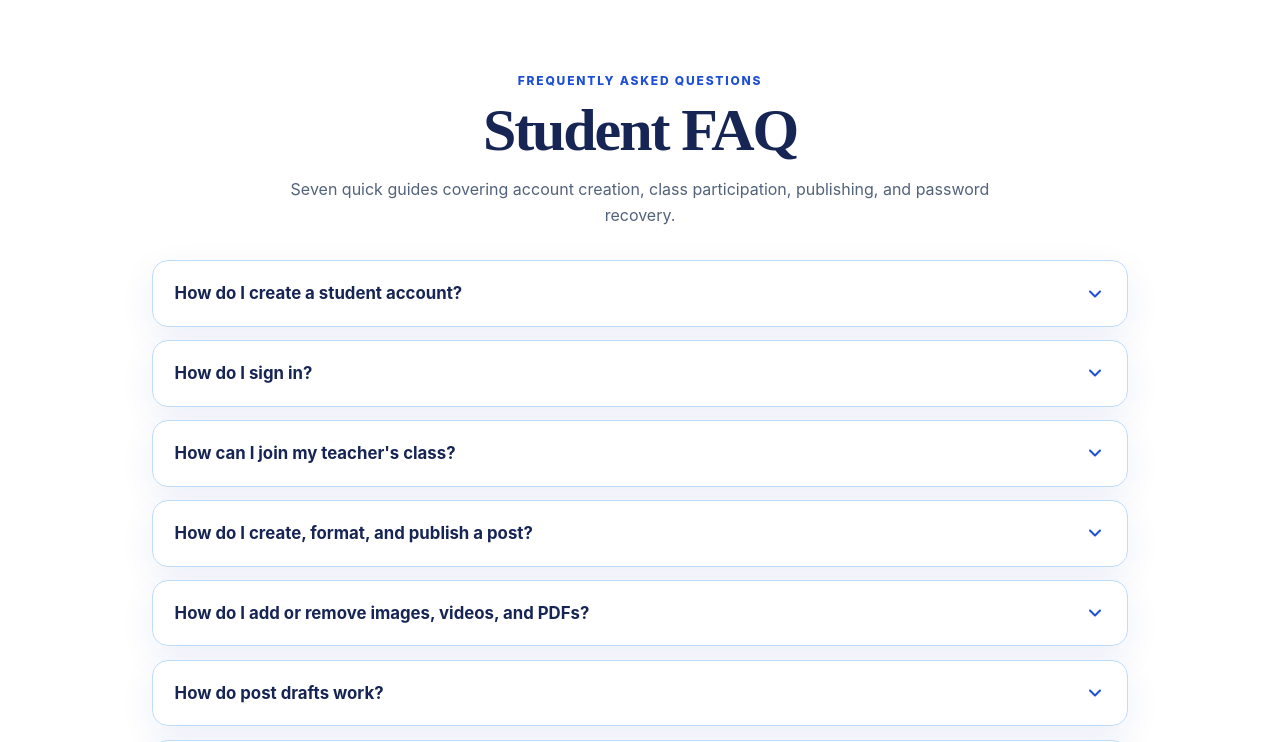
it: class enrollment help › directs students to join a class only after signing in
Click the button "How can I join my teacher's class?" at (315,453), box [153,421,1127,486]
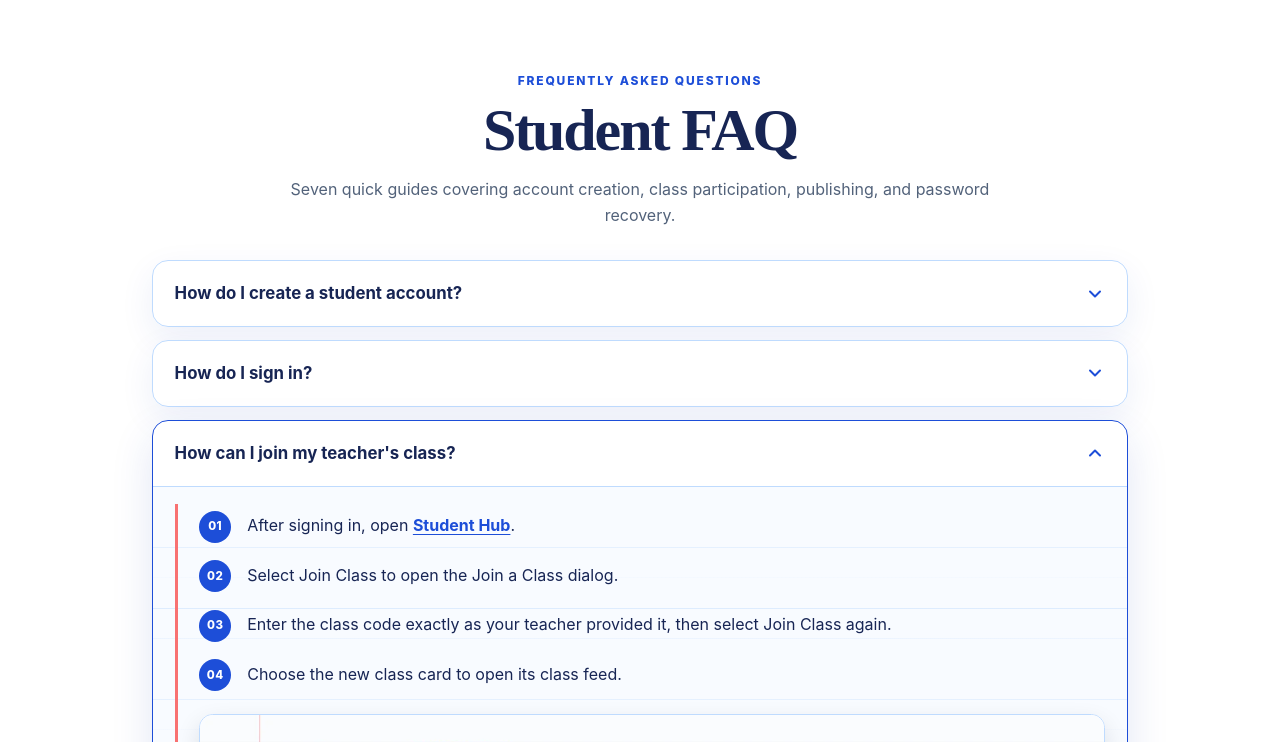
Check: the list item "After signing in, open Student Hub ." is shown, box [247,515,515,535]
